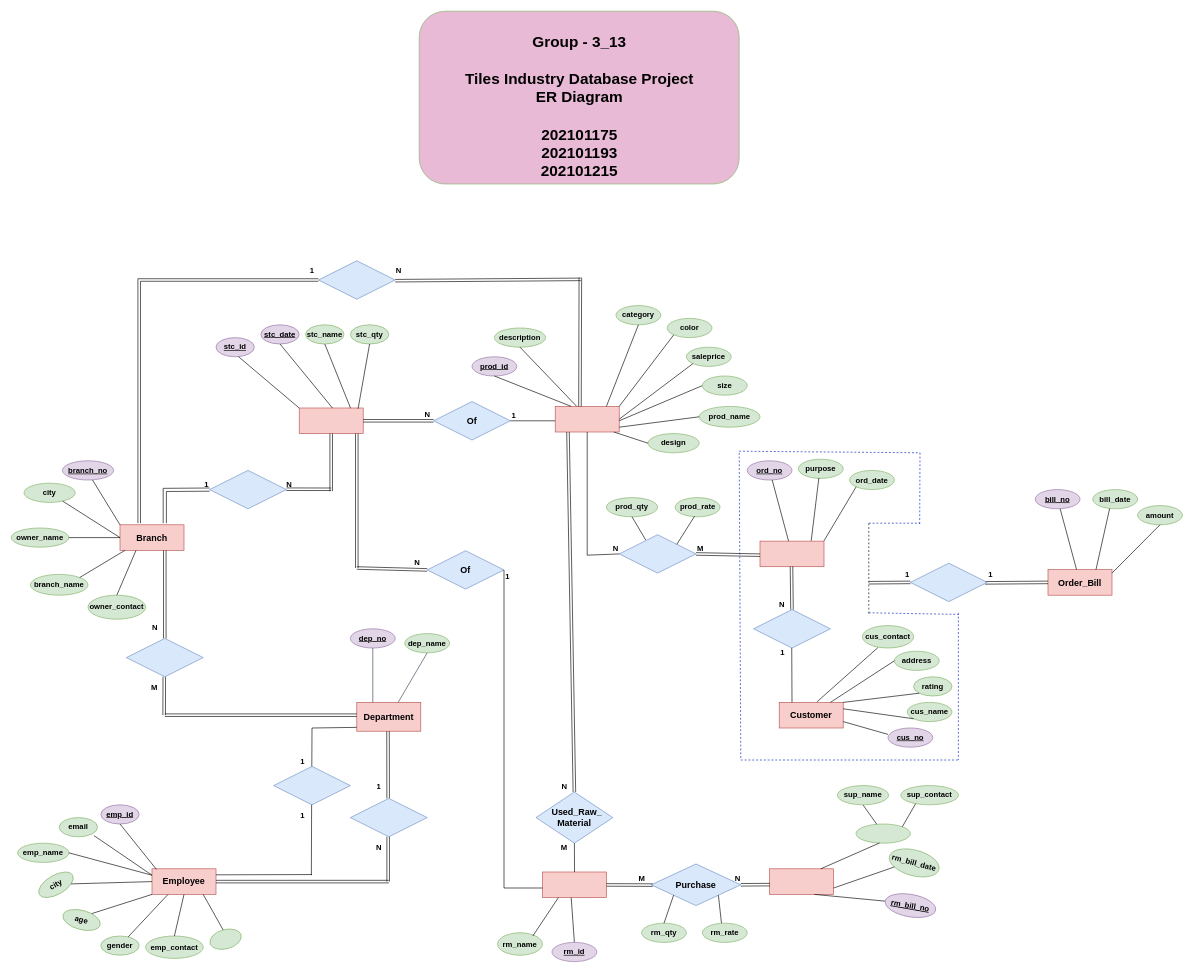
The diagram is 1194 pixels wide and 973 high, and some of its shapes have lost their labels. Each missing label, with the centre of its shape:
"Control_ Under" belongs at pixel 164 657.
"Given_By" belongs at pixel 791 628.
"Having" belongs at pixel 247 489.
"Made_For" belongs at pixel 948 582.
"Manage_By" belongs at pixel 311 785.
"Order" belongs at pixel 791 553.
"Order_Detail" belongs at pixel 657 553.
"Producing" belongs at pixel 356 279.
"Product" belongs at pixel 587 419.
"Raw_Mat_Bill" belongs at pixel 801 881.
"Raw_Material" belongs at pixel 574 884.
"salary" belongs at pixel 225 939.
"Stock" belongs at pixel 331 420.
"supplier" belongs at pixel 882 833.
"Works_In" belongs at pixel 388 817.
